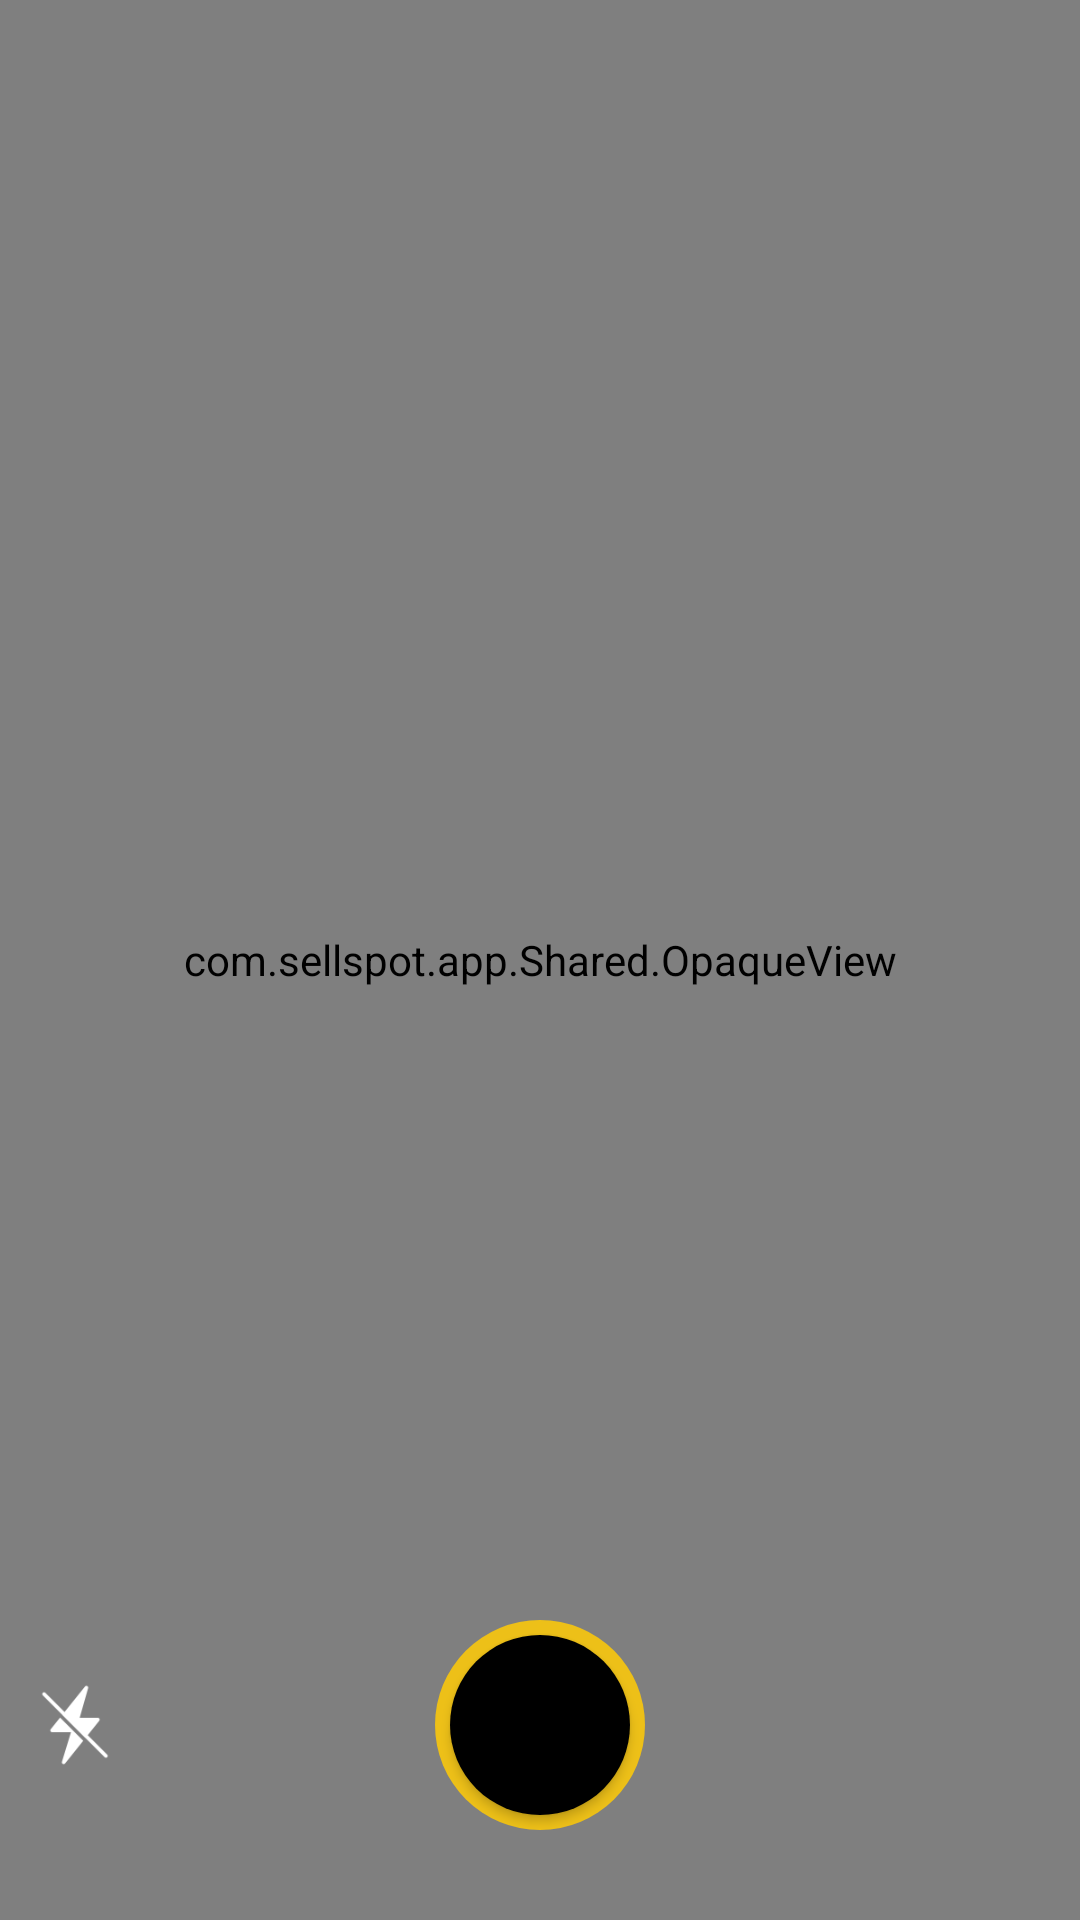

Icons on this 1080 x 1920 Android screen, each with its box as (x1, y1, x2, y2):
flashoff: (42, 1685, 108, 1765)
